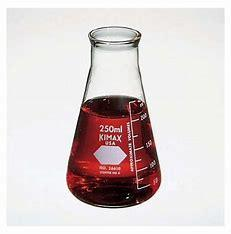Titrarion: (59, 24, 165, 209)
